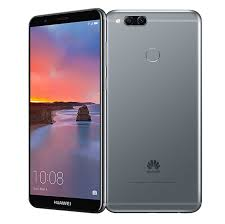huawei: (105, 6, 203, 212), (28, 7, 106, 210)
